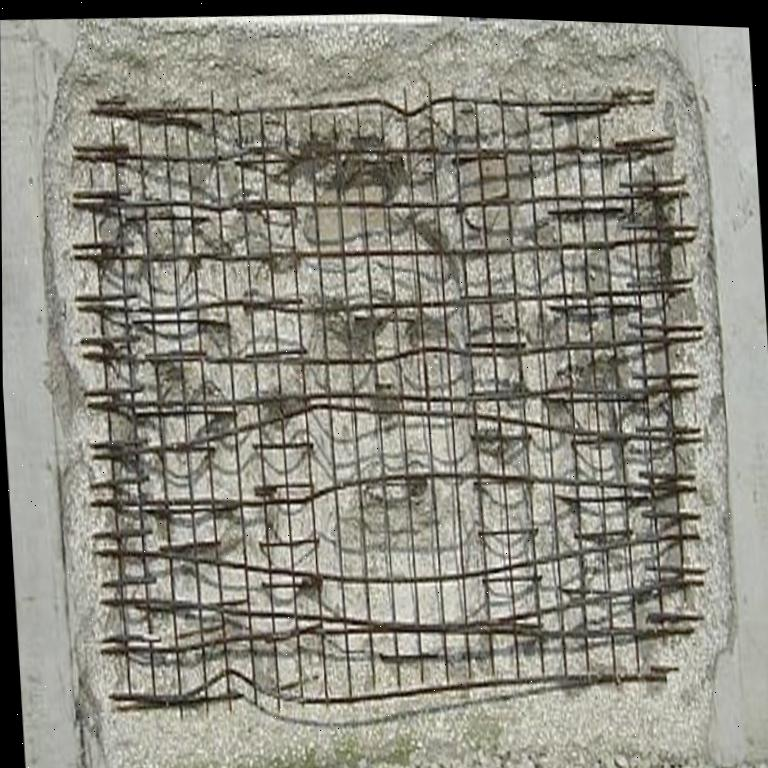exposed_rebar: (71, 94, 704, 711)
spalling: (44, 15, 732, 768)
